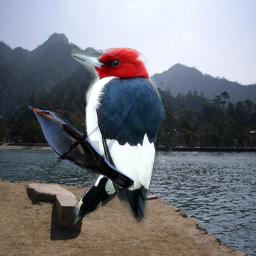Cuckoo: (28, 105, 134, 188)
Woodpecker: (71, 42, 167, 229)
